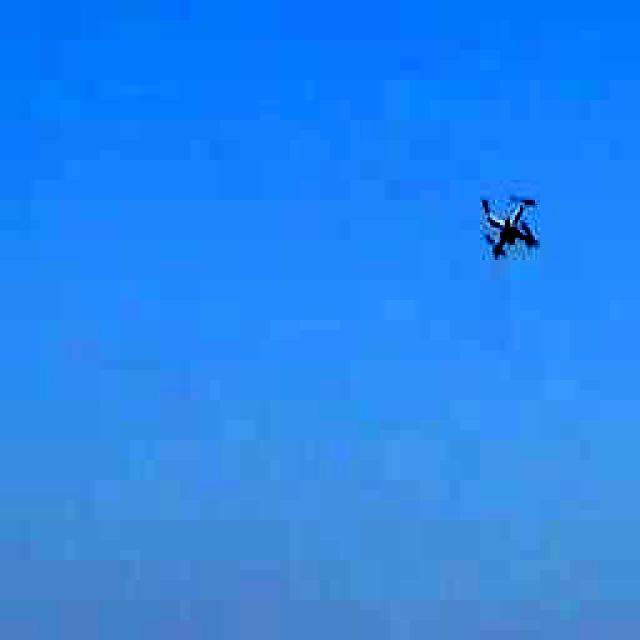bird: (450, 164, 560, 281)
